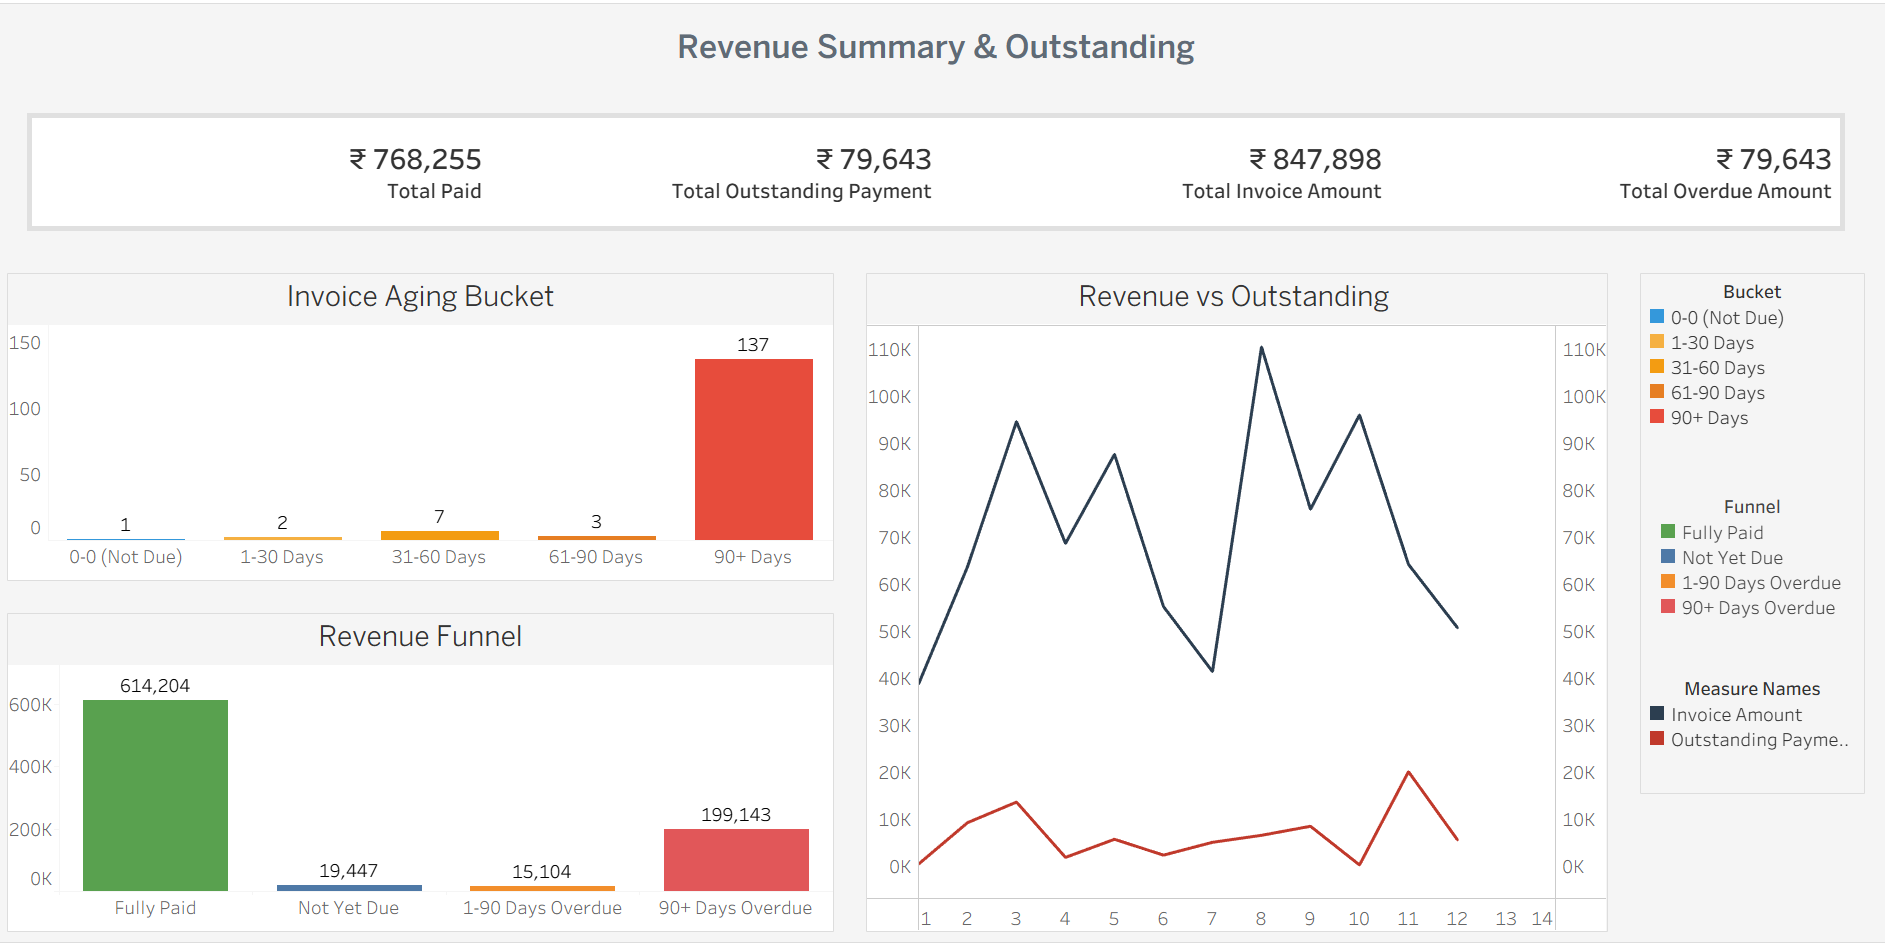

Layout of this report page (visuals, bound fields, positions):
{"tool":"tableau","page":{"name":"Revenue Summary & Outstanding Analysis","canvas":[1000,1000],"units":"permille","ordinal":1},"visuals":[{"type":"title","box":[16.1,32.3,967.7,49]},{"type":"blank","box":[16.1,81.2,967.7,33.3]},{"type":"worksheet","title":"KPI","mark":"Automatic","box":[29.2,145.8,941.7,81.2]},{"type":"blank","box":[16.1,258.3,967.7,33.6]},{"type":"worksheet","title":"Bucket","mark":"Bar","rows":["invoice_id"],"cols":["Calculation_86131353707560963"],"box":[16.1,291.9,430.7,320.8]},{"type":"blank","box":[446.9,291.9,16.7,686.2]},{"type":"worksheet","title":"Rev v Out","mark":"Automatic","rows":["amount","outstanding_payment"],"cols":["invoice_date"],"box":[463.5,291.9,386.4,686.2]},{"type":"blank","box":[850,291.9,16.7,686.2]},{"type":"legend","title":"Bucket","param":"[federated.1yhlttb00seysf1b5hwc01igatpn].[none:Calculation_86131353707560963:nk]","box":[867.2,292.9,116.2,179.2]},{"type":"blank","box":[867.2,472.1,116.2,33.3]},{"type":"legend","title":"Funnel","param":"[federated.1yhlttb00seysf1b5hwc01igatpn].[none:Calculation_86131353708576772:nk]","box":[867.2,505.4,116.2,167.7]},{"type":"blank","box":[16.1,612.7,430.7,32.7]},{"type":"worksheet","title":"Funnel","mark":"Bar","rows":["amount"],"cols":["Calculation_86131353708576772"],"box":[16.1,645.4,430.7,332.7]},{"type":"blank","box":[867.2,673.1,116.2,33.3]},{"type":"legend","title":"Rev v Out","param":"[federated.1yhlttb00seysf1b5hwc01igatpn].[:Measure Names]","box":[867.2,706.5,116.2,118.8]}]}

Visuals, with their boxes on the dashboard's canvas, which has no fixed pixel size, in thousandths of its width and height (x1, y1, x2, y2). These are canvas units, not pixel positions in the 1885x945 screenshot, which may show the page scaled, cropped or inside an application window:
title: bbox=(16, 32, 984, 81)
blank: bbox=(16, 81, 984, 114)
"KPI" worksheet: bbox=(29, 146, 971, 227)
blank: bbox=(16, 258, 984, 292)
"Bucket" worksheet (Bar marks): bbox=(16, 292, 447, 613)
blank: bbox=(447, 292, 464, 978)
"Rev v Out" worksheet: bbox=(464, 292, 850, 978)
blank: bbox=(850, 292, 867, 978)
"Bucket" legend: bbox=(867, 293, 983, 472)
blank: bbox=(867, 472, 983, 505)
"Funnel" legend: bbox=(867, 505, 983, 673)
blank: bbox=(16, 613, 447, 645)
"Funnel" worksheet (Bar marks): bbox=(16, 645, 447, 978)
blank: bbox=(867, 673, 983, 706)
"Rev v Out" legend: bbox=(867, 706, 983, 825)
